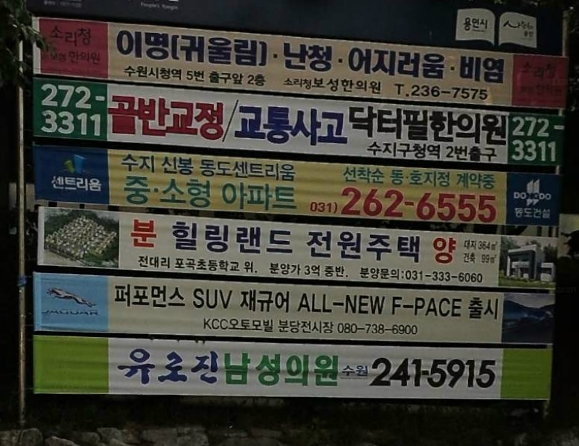banner: (22, 14, 572, 112), (25, 142, 566, 231), (29, 80, 570, 169), (27, 206, 561, 292), (23, 268, 556, 350), (27, 330, 556, 405)
